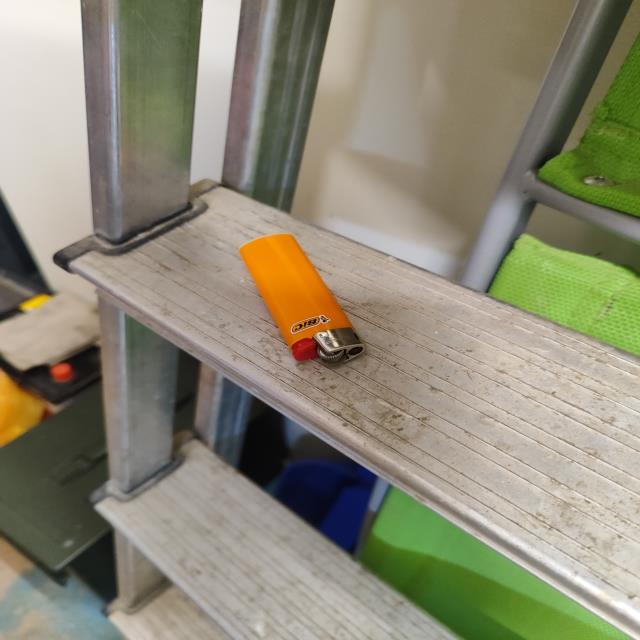lighter: (240, 234, 363, 363)
